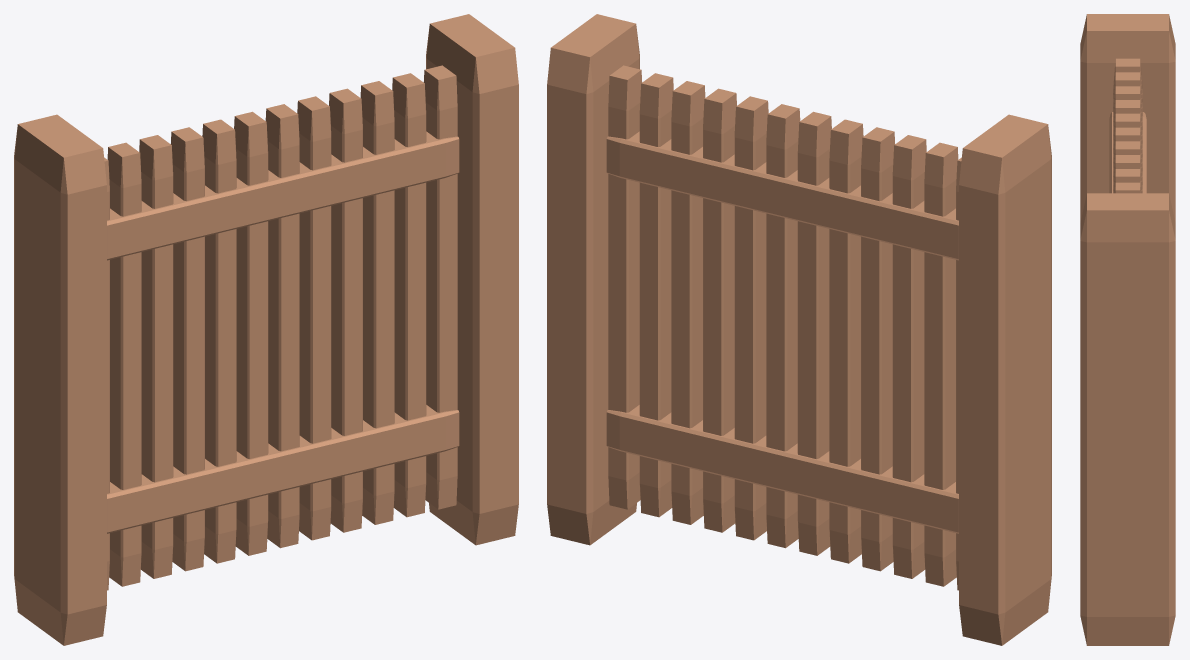
File: b19_corrugated_utility_yard_gate.glb
3 renders of one model, left to right at view 1: azimuth 30°, elevation 25°; view 2: azimuth 150°, elevation 25°; view 3: azimuth 270°, elevation 25°, orthographic. The views are drawn at different scales.
Visible parts, largest first — view 1: b19_corrugated_utility_yard_gate; view 2: b19_corrugated_utility_yard_gate; view 3: b19_corrugated_utility_yard_gate.
Part boxes in pixels (x1,y1,x2,y2): b19_corrugated_utility_yard_gate: [14, 14, 518, 645]; b19_corrugated_utility_yard_gate: [547, 14, 1051, 645]; b19_corrugated_utility_yard_gate: [1080, 14, 1175, 645].
Size of the model in its own units: 1.99 by 2.02 by 0.402.
